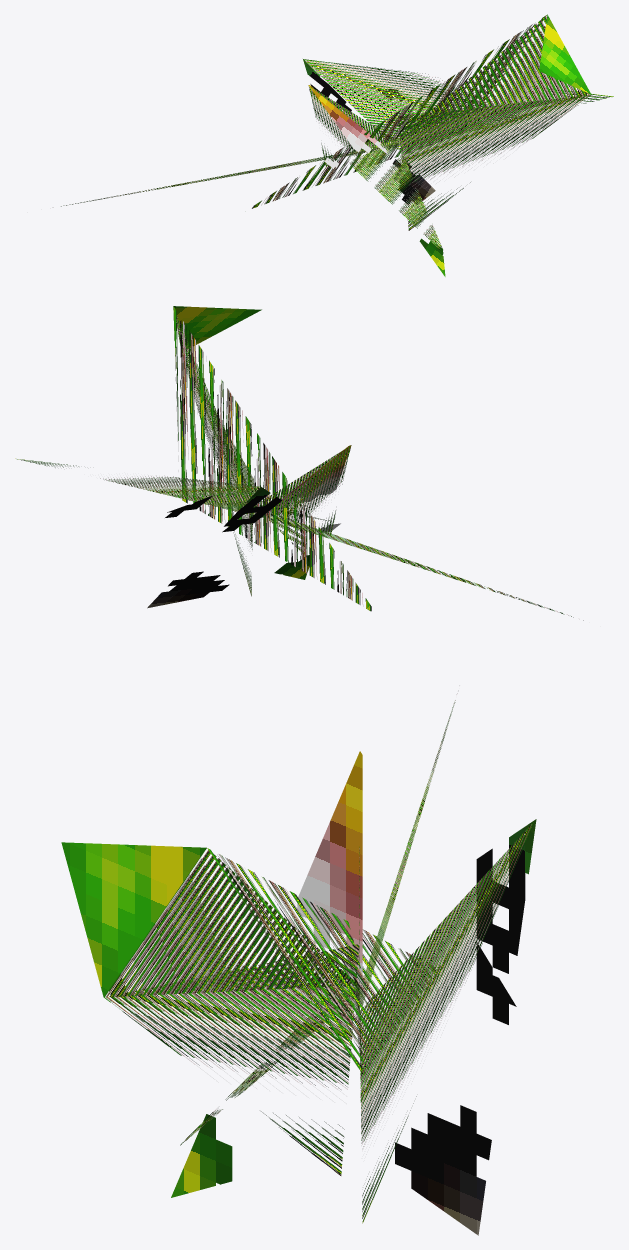
The model's file is assets0A_model_025.obj.
3 views of the same model, one above another, from view 1: azimuth 30°, elevation 25°; view 2: azimuth 150°, elevation 25°; view 3: azimuth 270°, elevation 25° (orthographic). The views are drawn at different scales.
Visible parts, largest first — view 1: assets0A_model_025; view 2: assets0A_model_025; view 3: assets0A_model_025.
Part boxes in pixels (left/top/right/bottom): assets0A_model_025: left=53, top=14, right=613, bottom=276; assets0A_model_025: left=15, top=306, right=583, bottom=620; assets0A_model_025: left=61, top=690, right=536, bottom=1235.
Size of the model in its own units: 26.08 by 9.95 by 9.95.
1 material, 1 textured.
